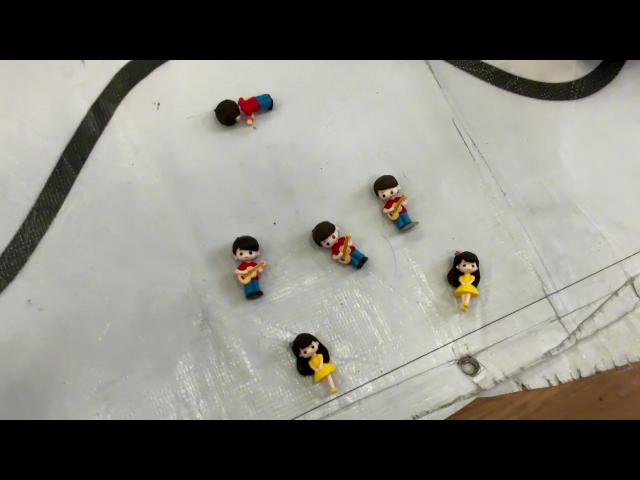man: (309, 216, 371, 271), (226, 232, 274, 302), (372, 174, 420, 236), (214, 92, 276, 131)
woman: (283, 332, 343, 398), (442, 246, 486, 316)
